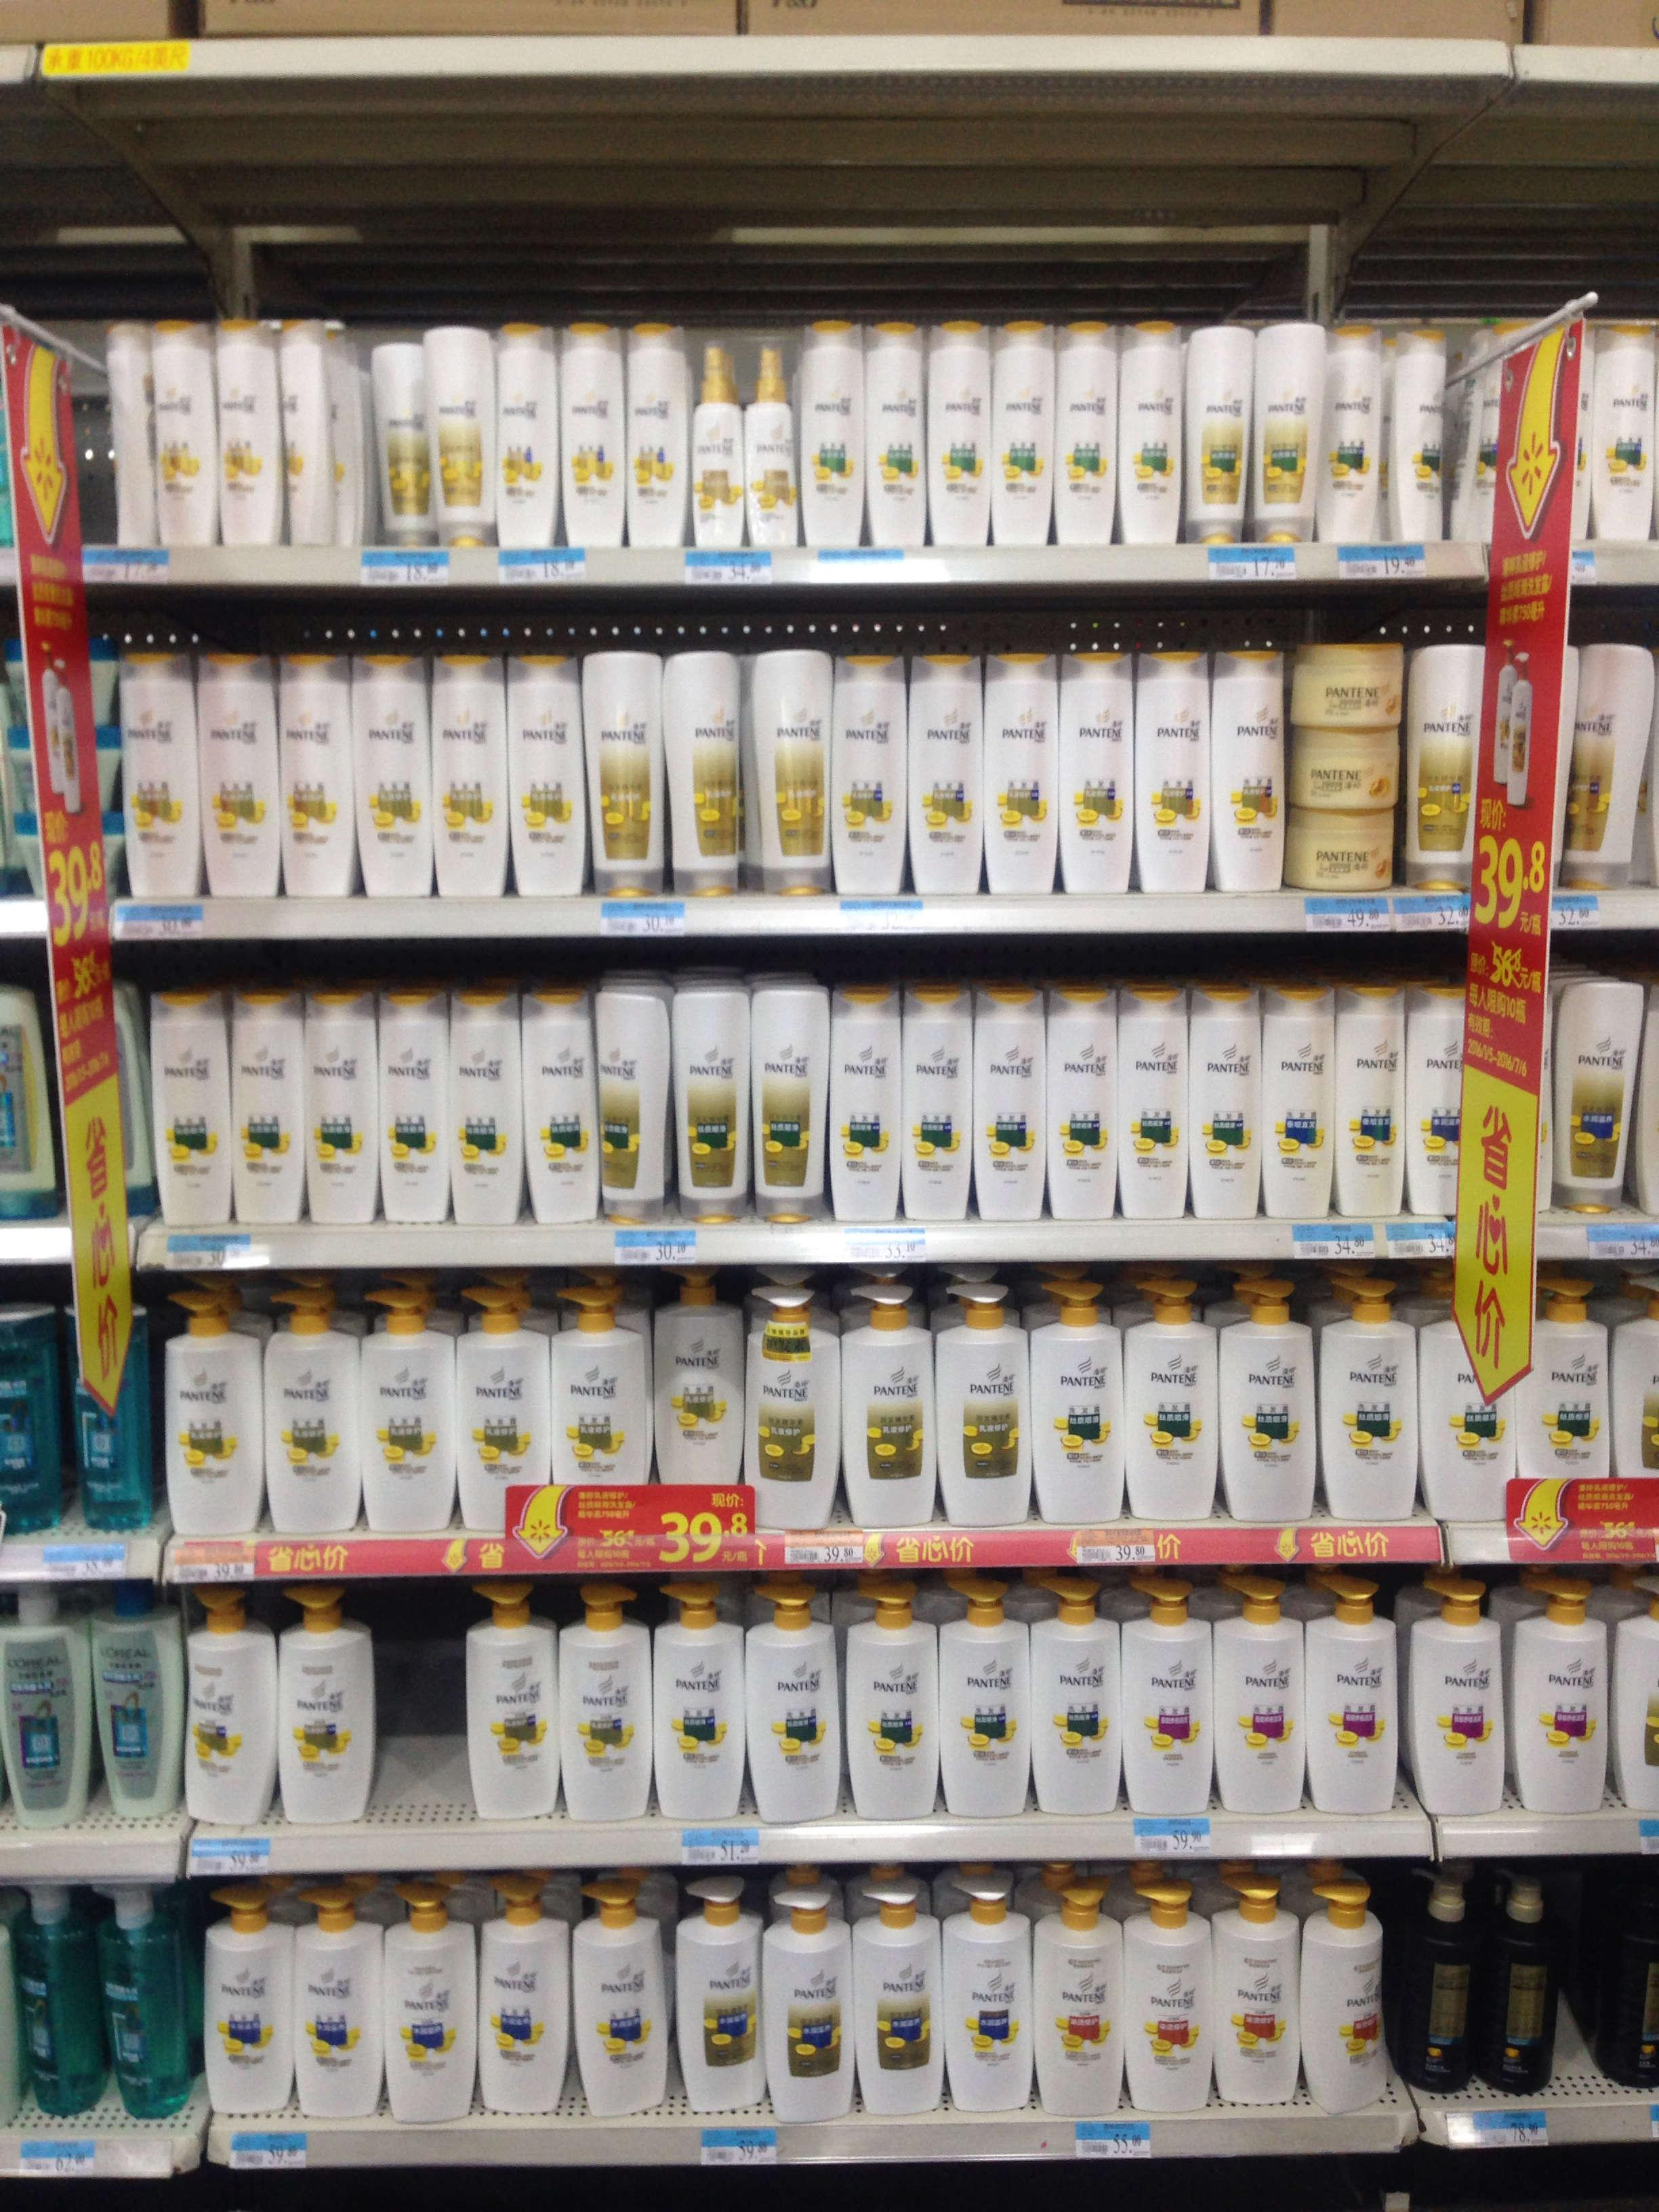misalignment: (1570, 639, 1650, 888), (80, 320, 159, 545), (1305, 1897, 1389, 2099), (272, 314, 340, 536)
